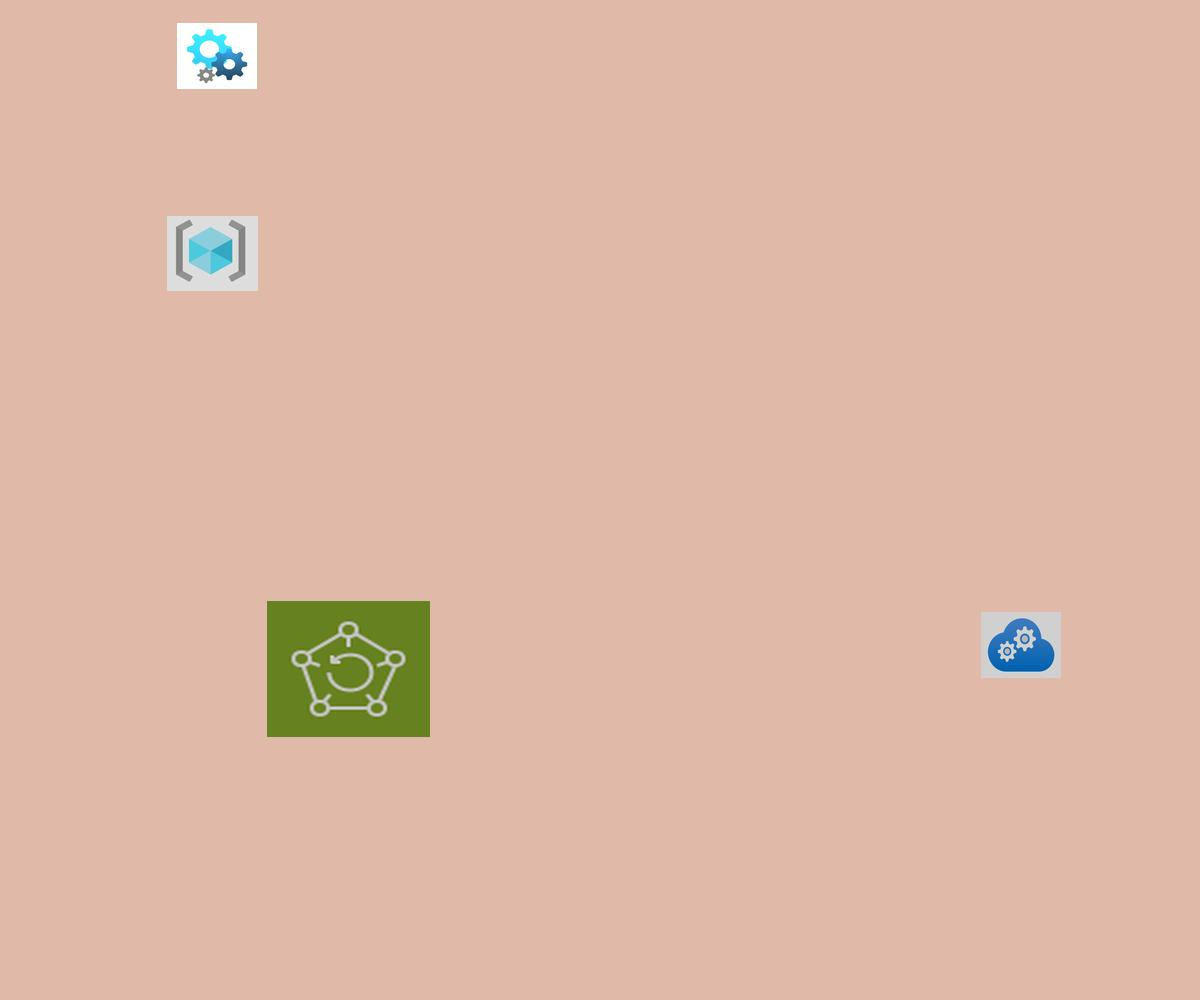AWS-Backup: (267, 601, 430, 737)
Azure_api: (177, 23, 257, 89)
Azure_cloud_services: (981, 612, 1061, 678)
Azure_resource_group: (167, 216, 258, 291)
